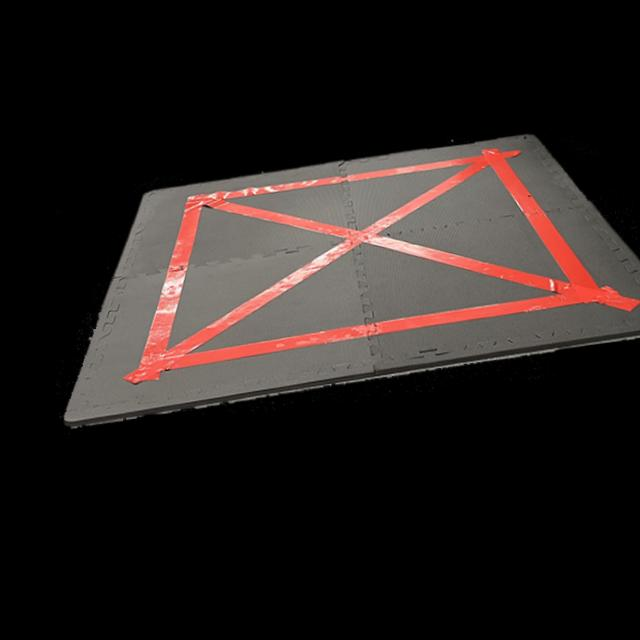landingPads: (26, 127, 640, 431)
